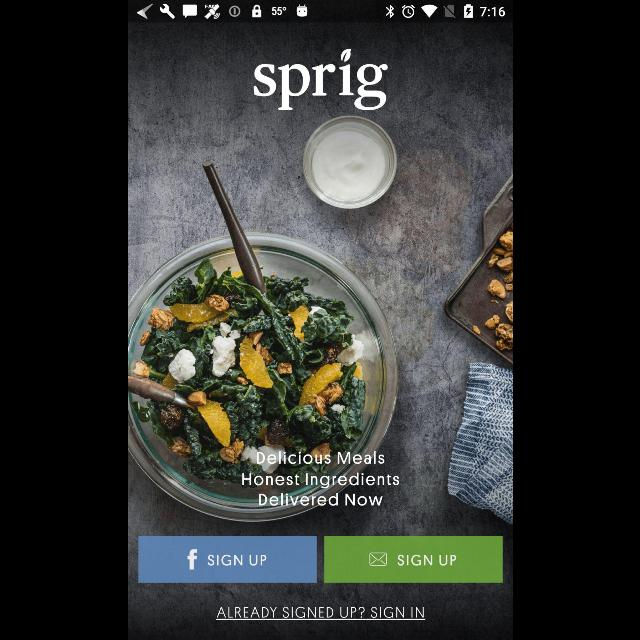backgroundimage: (128, 22, 512, 640)
image: (252, 48, 388, 112)
text: (241, 451, 399, 507), (215, 606, 425, 620)
textbutton: (138, 536, 316, 584), (324, 536, 502, 582)
uppertaskbar: (128, 1, 512, 23)
